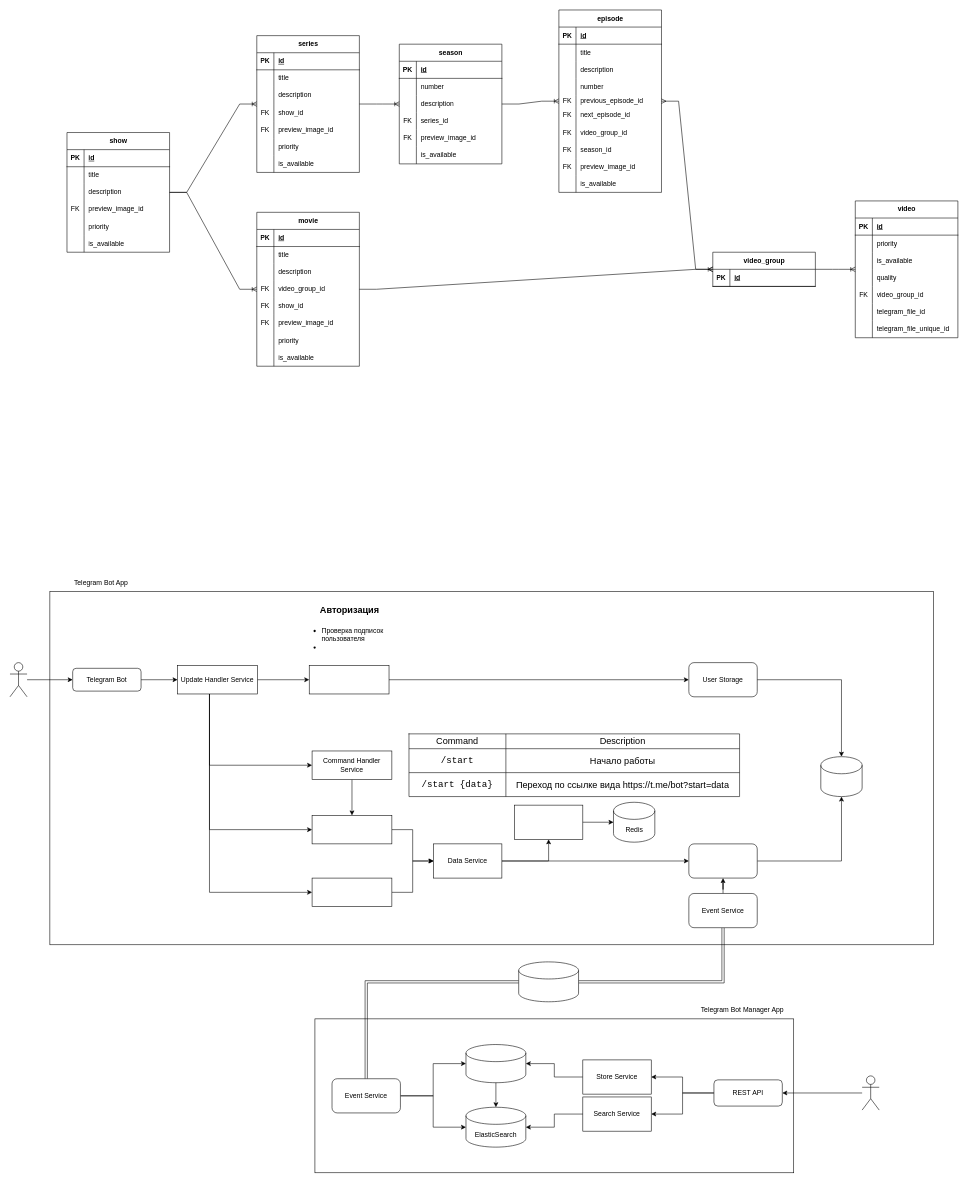
The diagram is 968 pixels wide and 1183 high, and some of its shapes have lost their labels. Here are the shapes that lost their labels. From the top down, the centre of each, then its label:
At [18,679]: "User".
At [349,679]: "Authorization Service".
At [841,776]: "MongoDB".
At [352,829]: "Callback Handler Service".
At [548,822]: "Cache Service".
At [722,860]: "Data Storage".
At [352,892]: "InlineQuery Handler Service".
At [548,981]: "Kafka / RabbitMQ".
At [495,1063]: "PostgreSQL".
At [870,1092]: "Manager".
